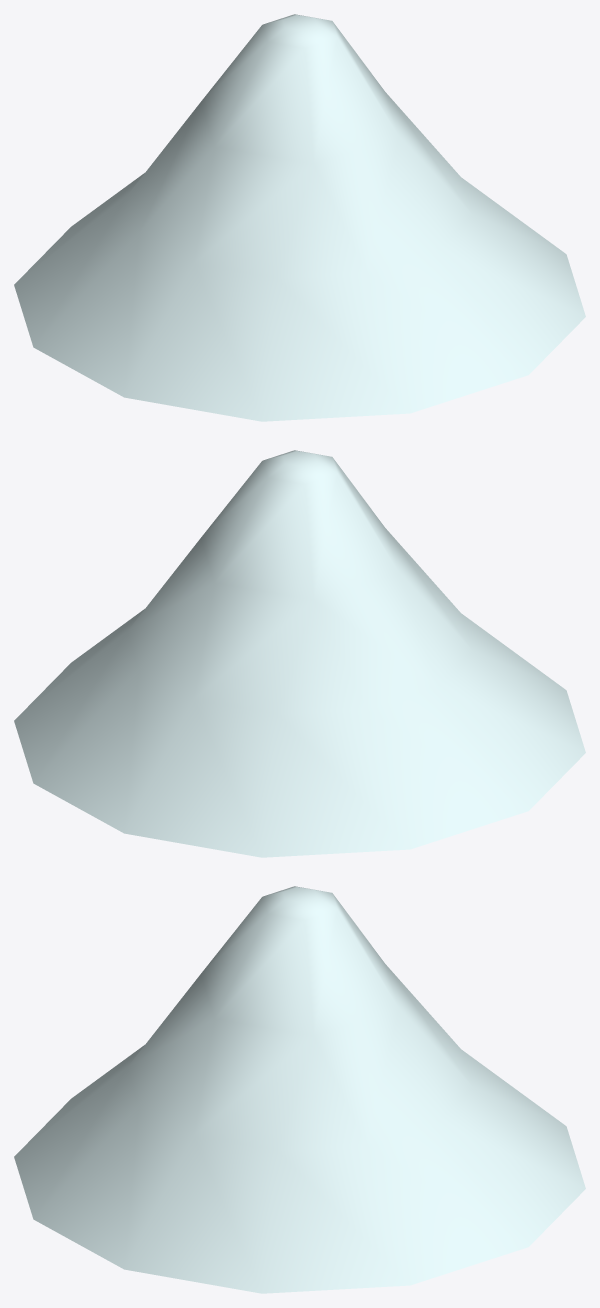
Rendered from ice_011.fbx.
The picture shows the model from 3 angles, top to bottom: view 1: azimuth 30°, elevation 25°; view 2: azimuth 150°, elevation 25°; view 3: azimuth 270°, elevation 25°; orthographic projection.
Visible parts, largest first — view 1: ice_011; view 2: ice_011; view 3: ice_011.
Boxes of the visible parts, x1,y1,x2,y2 form: ice_011: (14, 14, 585, 421); ice_011: (14, 450, 585, 857); ice_011: (14, 886, 585, 1293).
Size of the model in its own units: 151 by 151 by 80.98.
